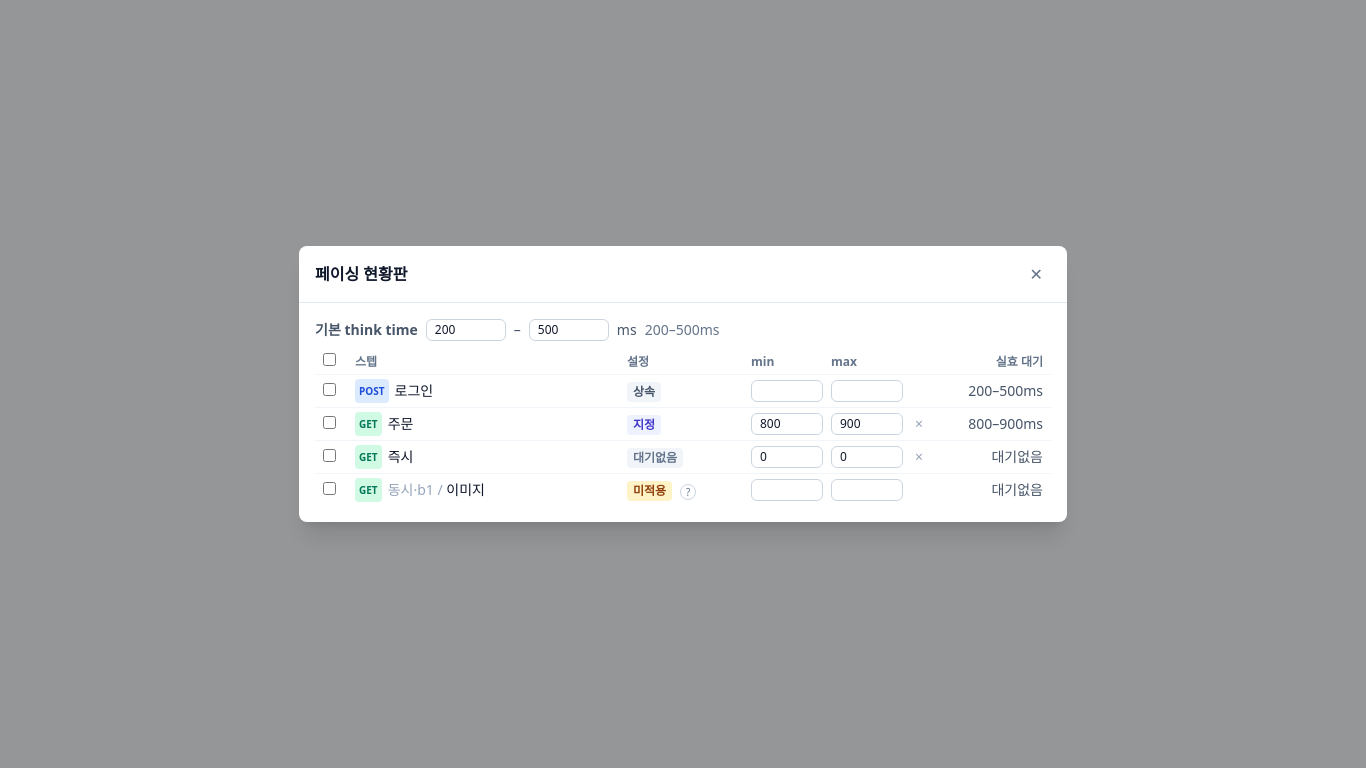
Test: ThinkTimeBoard — 기본값 인라인 편집 (R2) › 두 칸을 비우고 blur하면 기본값 키가 사라진다
The image size is (1366, 768).
Clear the number field named "현황판 기본 대기 최솟값 (ms)". click: [466, 330]
box: 426,319 -> 506,341
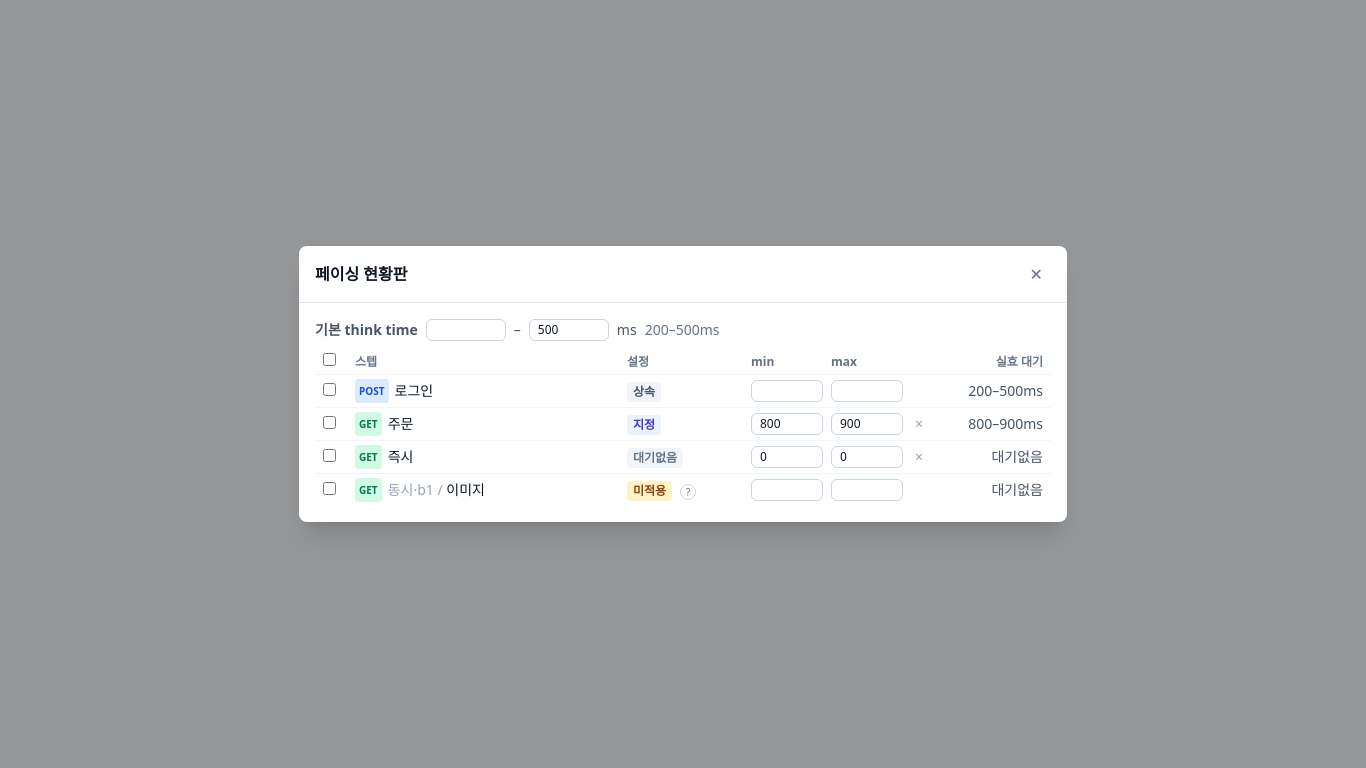
Clear the number field named "현황판 기본 대기 최댓값 (ms)". click: [569, 330]
box: 529,319 -> 609,341
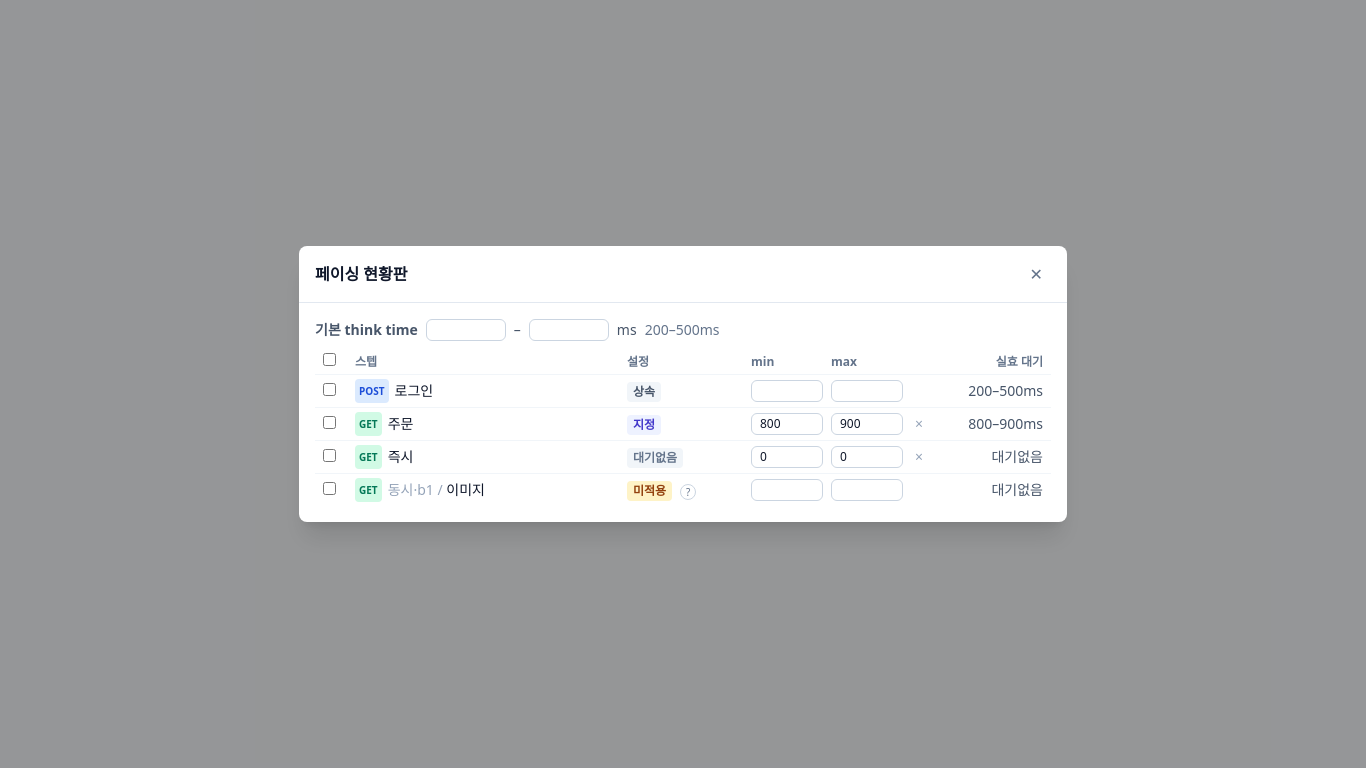
Leave the number field named "현황판 기본 대기 최댓값 (ms)", box 529,319 -> 609,341
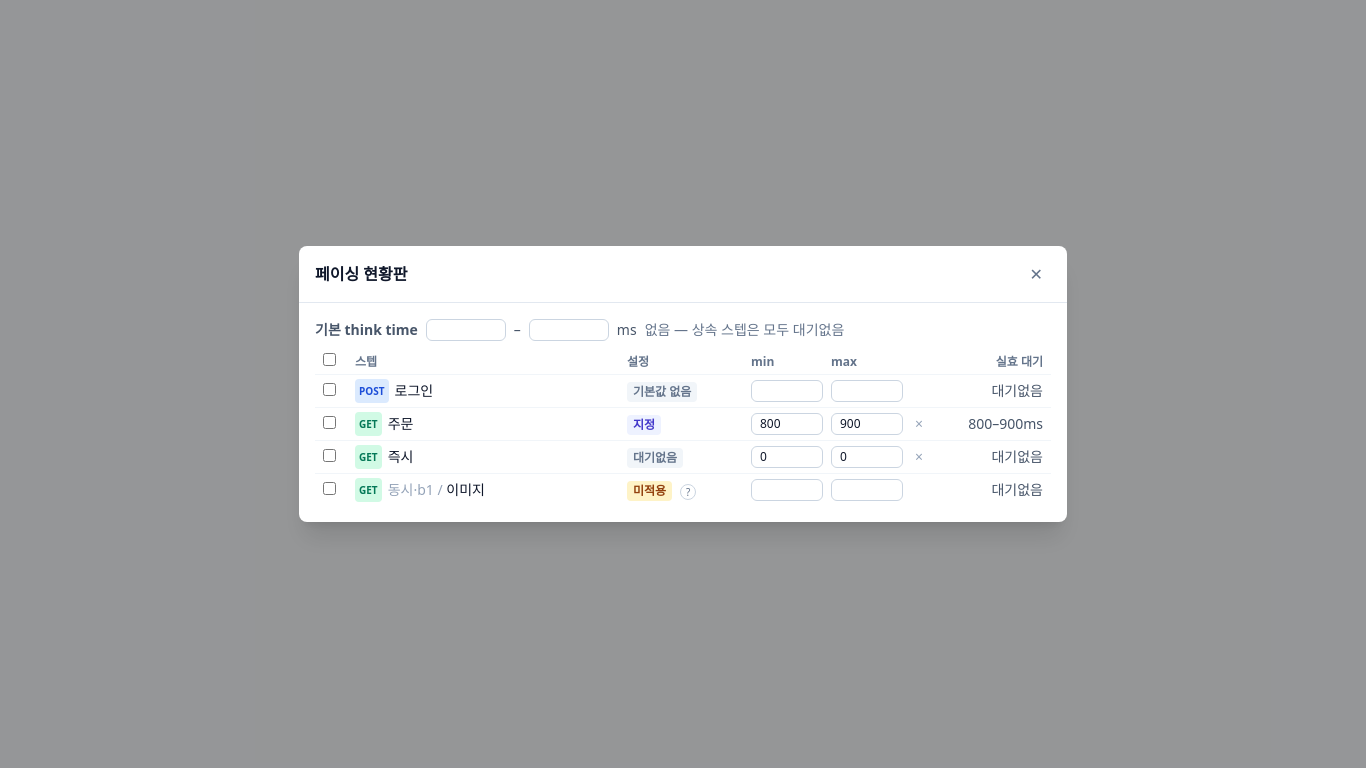
Check: the text with test id "default-summary" reads "없음 — 상속 스텝은 모두 대기없음", box 645,320 -> 844,339
